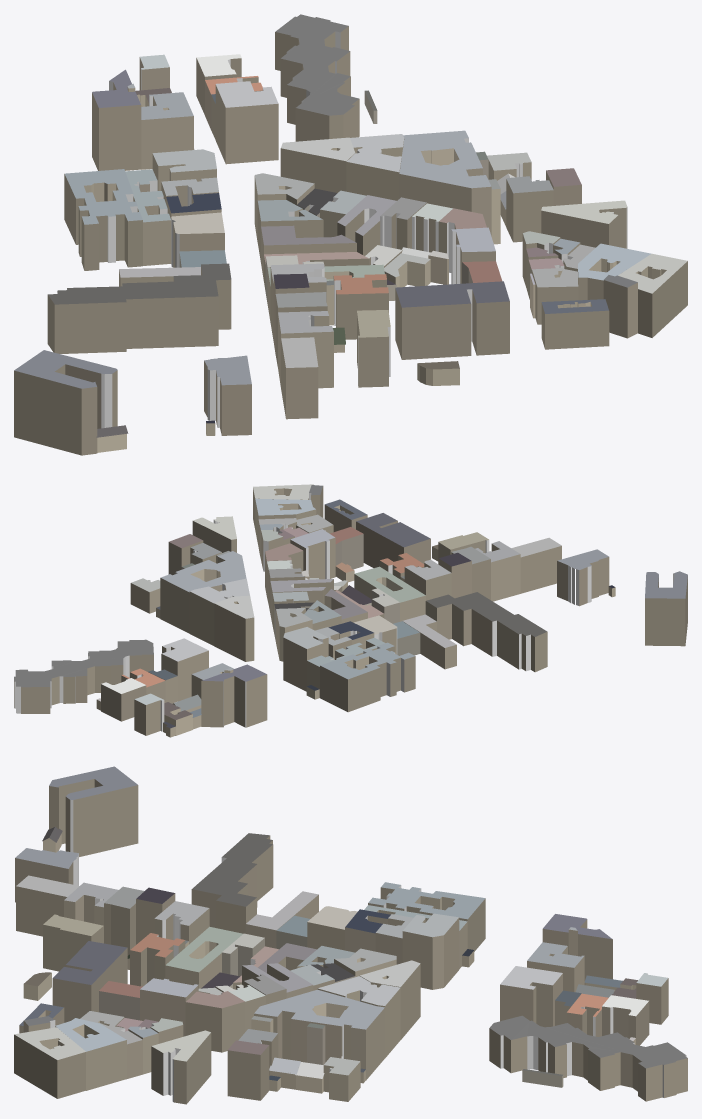
The picture shows the model from 3 angles, top to bottom: view 1: azimuth 30°, elevation 25°; view 2: azimuth 150°, elevation 25°; view 3: azimuth 270°, elevation 25°; orthographic projection. The views are drawn at different scales.
Parts seen in each view (by area): view 1: tuile; view 2: tuile; view 3: tuile.
Part boxes in pixels (bbox=[...]): tuile: bbox=[14, 14, 687, 455]; tuile: bbox=[14, 484, 687, 737]; tuile: bbox=[14, 766, 687, 1104].
Bounding box in the file's own units: 264 × 28.14 × 270.
